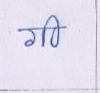i_matra: (47, 14, 60, 47)
